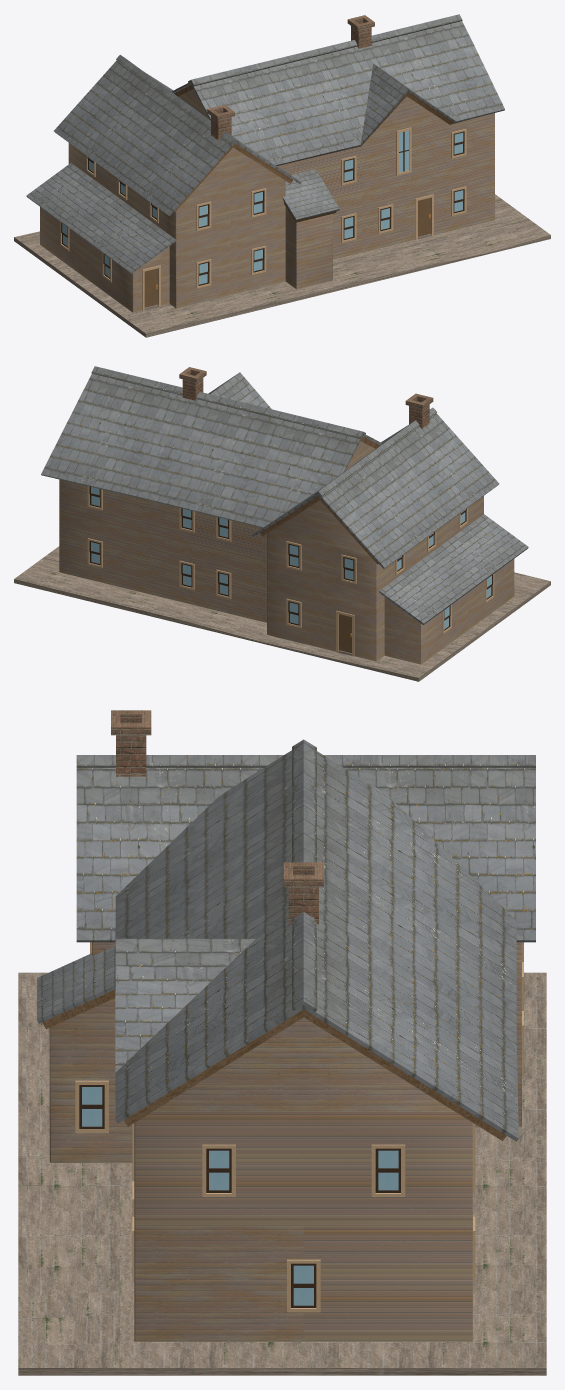
File: Bldg_Base_2.fbx
3 views of the same model, one above another, from view 1: azimuth 30°, elevation 25°; view 2: azimuth 150°, elevation 25°; view 3: azimuth 270°, elevation 25° (orthographic). The views are drawn at different scales.
Parts seen in each view (by area): view 1: Bldg_House, Bldg_Base_2; view 2: Bldg_House, Bldg_Base_2; view 3: Bldg_House, Bldg_Base_2.
Boxes of the visible parts, left/top/right/bottom form: Bldg_House: left=26, top=14, right=504, bottom=312; Bldg_Base_2: left=14, top=194, right=550, bottom=337; Bldg_House: left=41, top=366, right=528, bottom=664; Bldg_Base_2: left=14, top=546, right=550, bottom=681; Bldg_House: left=37, top=710, right=535, bottom=1341; Bldg_Base_2: left=18, top=972, right=546, bottom=1375.
Size of the model in its own units: 22.09 by 10.15 by 12.48.
